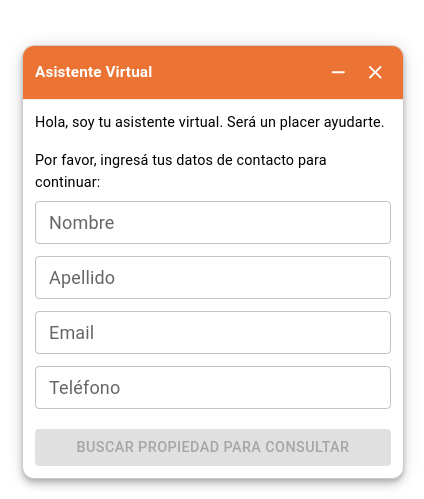
Componente Chat › muestra error de email inválido
Type "invalido@" into the field labelled "Email" at (213,332), box x1=35 y1=311 x2=391 y2=354
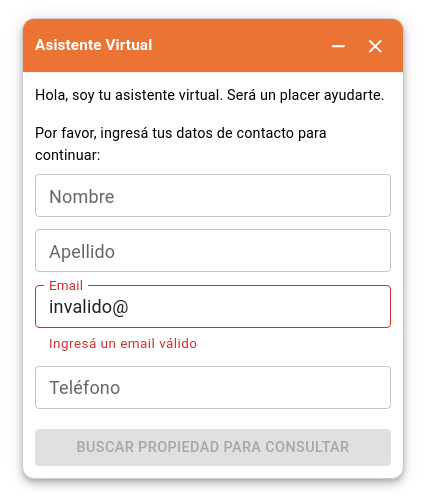
Check: the text "Ingresá un email válido" is shown, box x1=49 y1=334 x2=198 y2=350
